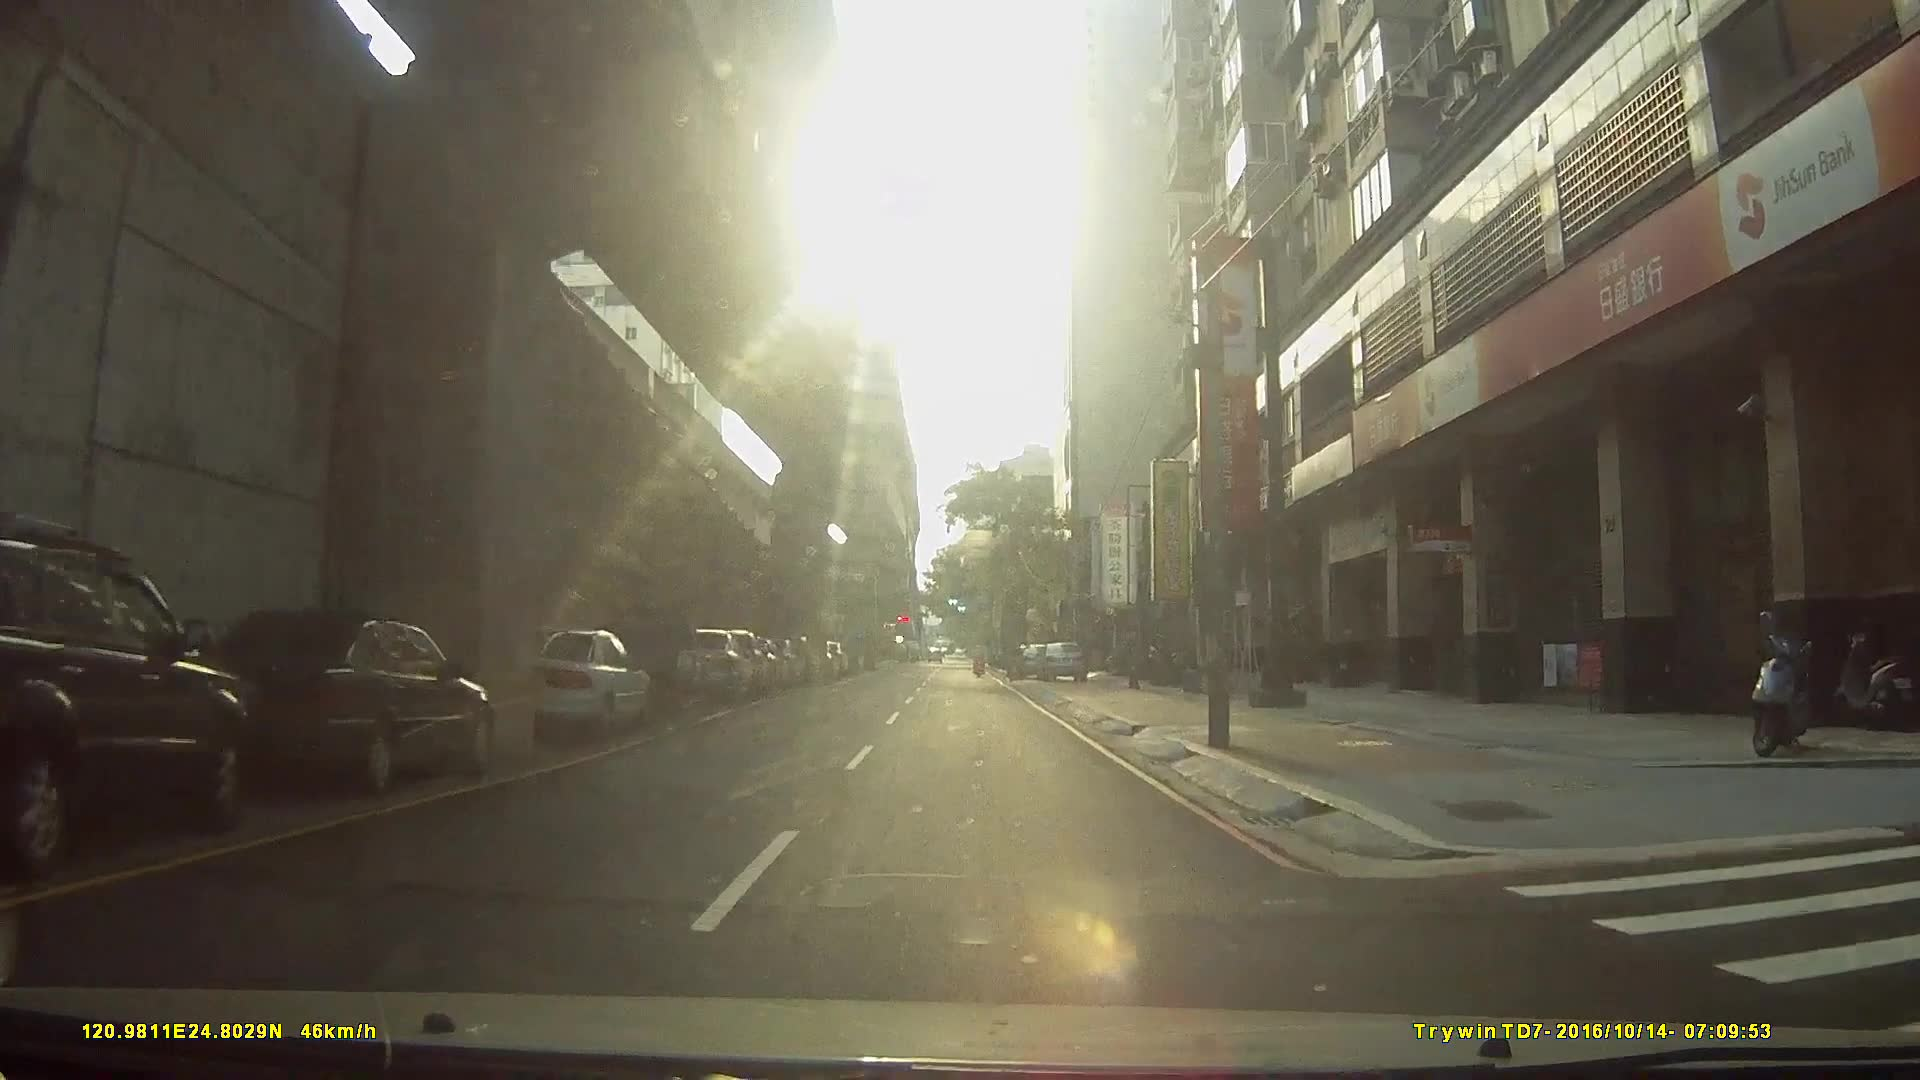vehicle: (0, 520, 253, 878), (165, 604, 498, 798), (498, 618, 653, 737), (583, 609, 705, 704), (659, 620, 794, 670), (1033, 637, 1091, 680)
